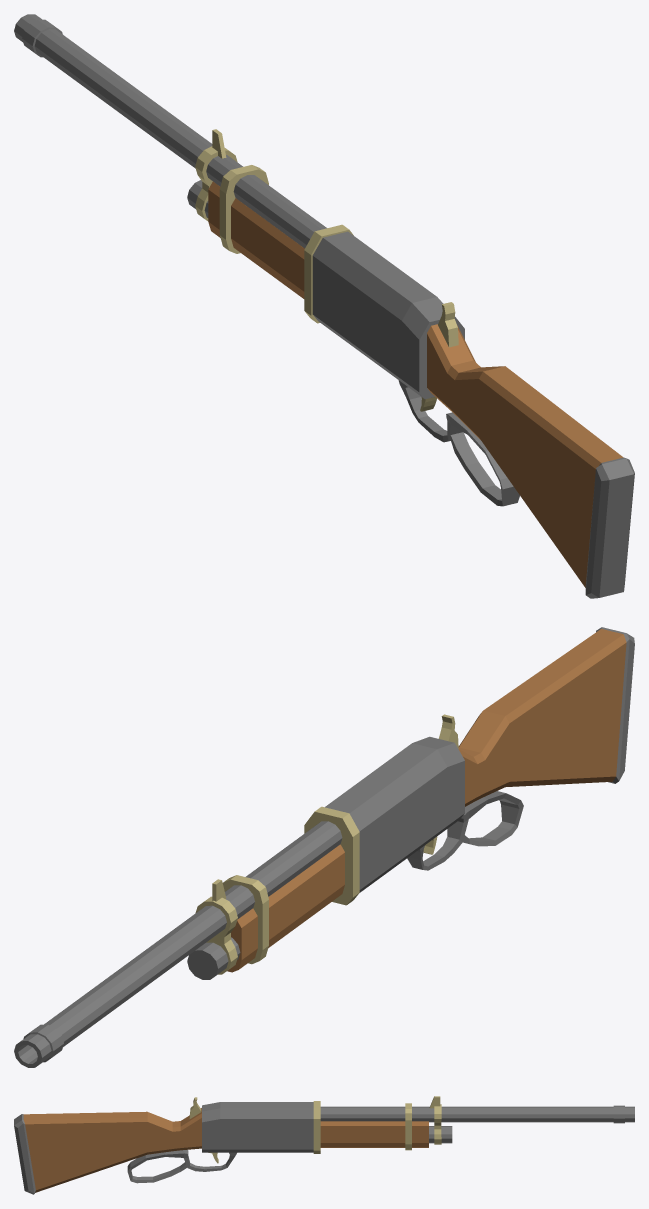
The model's file is Lever-Rifles-Long.fbx.
3 renders of one model, top to bottom at view 1: azimuth 30°, elevation 25°; view 2: azimuth 150°, elevation 25°; view 3: azimuth 270°, elevation 25°, orthographic. The views are drawn at different scales.
Visible parts, largest first — view 1: Carabine.003; view 2: Carabine.003; view 3: Carabine.003.
Boxes of the visible parts, x1,y1,x2,y2 form: Carabine.003: [14, 14, 634, 598]; Carabine.003: [14, 627, 634, 1067]; Carabine.003: [14, 1096, 634, 1194].
Bounding box in the file's own units: 65.9 × 235 × 1394.
